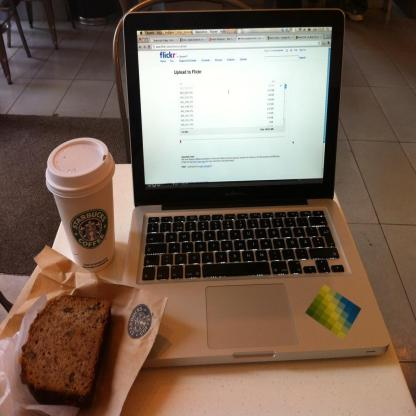board: (120, 11, 390, 370)
